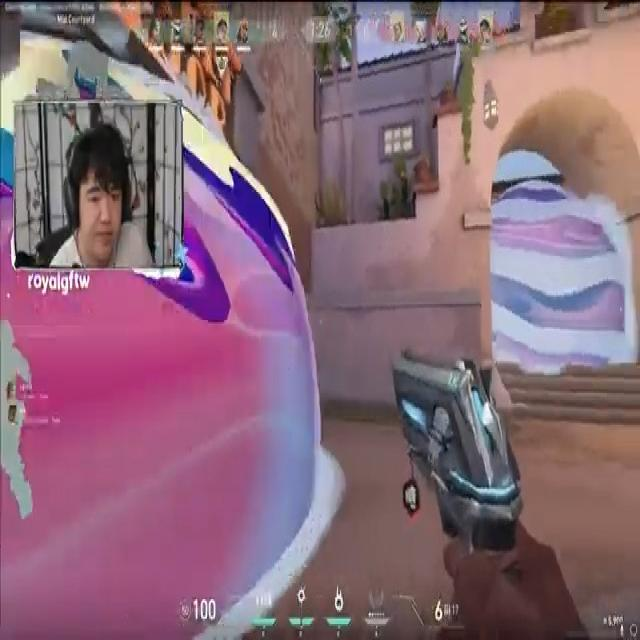smoke: (0, 57, 332, 624), (488, 184, 626, 385)
